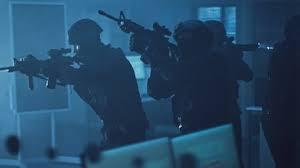rifle: (98, 8, 178, 68), (0, 47, 83, 92)
